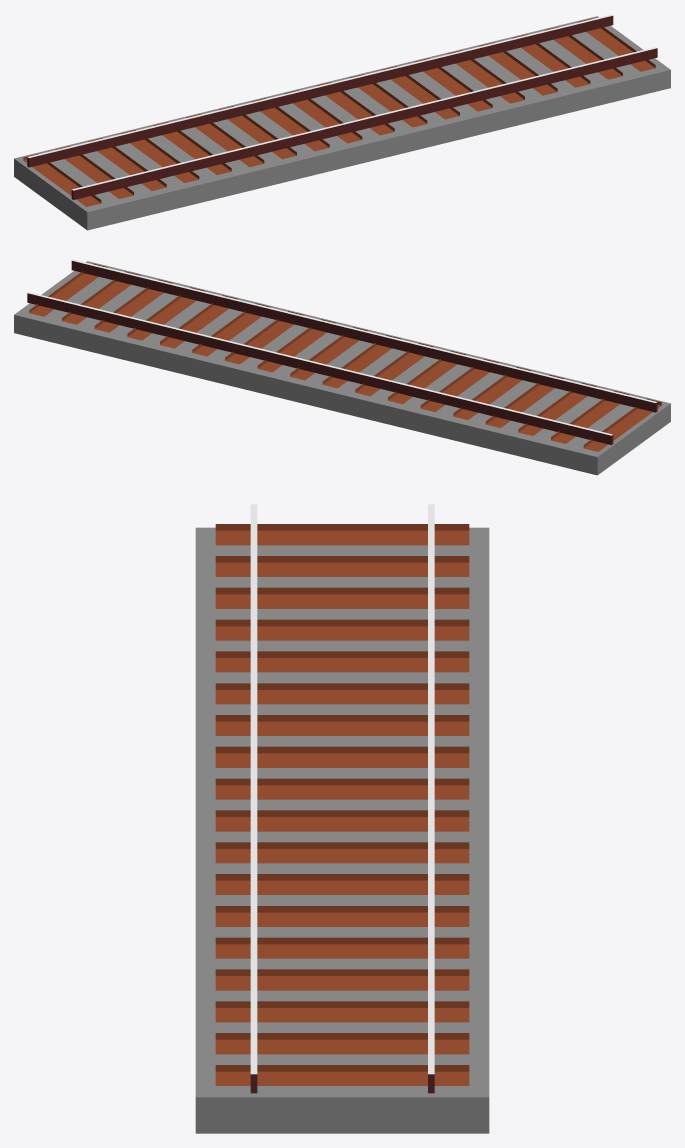
File: track.glb
The picture shows the model from 3 angles, top to bottom: view 1: azimuth 30°, elevation 25°; view 2: azimuth 150°, elevation 25°; view 3: azimuth 270°, elevation 25°; orthographic projection. The views are drawn at different scales.
Parts seen in each view (by area): view 1: Cube; view 2: Cube; view 3: Cube.
Boxes of the visible parts, x1=… form: Cube: x1=14, y1=14, x2=670, y2=230; Cube: x1=14, y1=259, x2=670, y2=475; Cube: x1=195, y1=504, x2=489, y2=1133.
Size of the model in its own units: 12.17 by 0.5941 by 2.65.
Materials: 1 (1 with a texture image).
